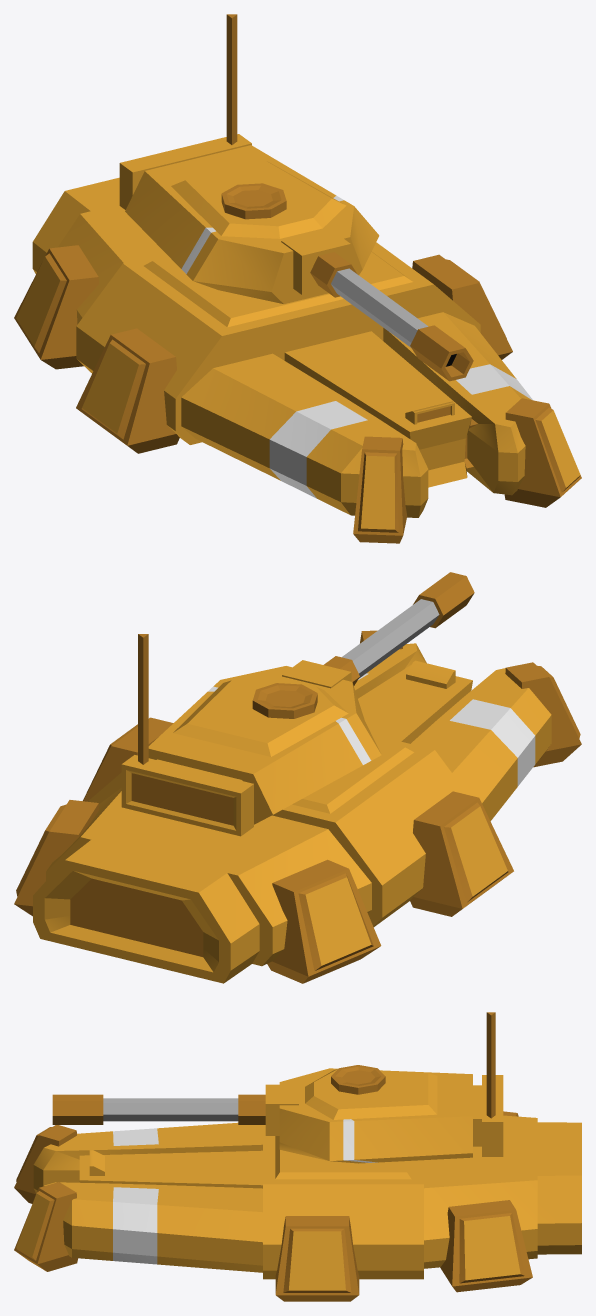
The model's file is desert_tankEnemy_01.fbx.
3 renders of one model, top to bottom at view 1: azimuth 30°, elevation 25°; view 2: azimuth 150°, elevation 25°; view 3: azimuth 270°, elevation 25°, orthographic. The views are drawn at different scales.
Parts seen in each view (by area): view 1: body, turret, jet04, jet06, jet01, barrel01, jet02, jet03, barrel02, greeble01, antenna; view 2: body, turret, jet06, jet04, barrel01, jet05, jet02, greeble01, jet03, barrel02, antenna, greeble03; view 3: body, turret, jet05, jet03, barrel01, jet01, barrel02, jet02, greeble01, antenna, greeble03.
Boxes of the visible parts, bbox=[...] form: body: bbox=[32, 177, 532, 517]; turret: bbox=[119, 134, 379, 303]; jet04: bbox=[76, 328, 179, 453]; jet06: bbox=[14, 245, 98, 369]; jet01: bbox=[504, 398, 581, 507]; barrel01: bbox=[331, 268, 473, 381]; jet02: bbox=[353, 436, 407, 543]; jet03: bbox=[412, 254, 512, 359]; barrel02: bbox=[281, 229, 357, 297]; greeble01: bbox=[221, 183, 286, 219]; antenna: bbox=[226, 14, 237, 144]; body: bbox=[33, 643, 551, 983]; turret: bbox=[121, 666, 381, 836]; jet06: bbox=[267, 859, 381, 983]; jet04: bbox=[410, 791, 513, 916]; barrel01: bbox=[342, 572, 474, 678]; jet05: bbox=[14, 800, 99, 916]; jet02: bbox=[505, 662, 581, 767]; greeble01: bbox=[252, 683, 317, 718]; jet03: bbox=[83, 717, 173, 801]; barrel02: bbox=[282, 656, 359, 688]; antenna: bbox=[138, 634, 148, 764]; greeble03: bbox=[406, 660, 455, 688]; body: bbox=[33, 1115, 581, 1279]; turret: bbox=[279, 1068, 503, 1163]; jet05: bbox=[440, 1200, 532, 1292]; jet03: bbox=[275, 1216, 359, 1301]; barrel01: bbox=[52, 1094, 238, 1124]; jet01: bbox=[14, 1182, 77, 1271]; barrel02: bbox=[238, 1084, 298, 1135]; jet02: bbox=[14, 1125, 76, 1203]; greeble01: bbox=[331, 1065, 385, 1094]; antenna: bbox=[486, 1012, 495, 1118]; greeble03: bbox=[89, 1150, 104, 1175].
Bounding box in the file's own units: 3.6 × 2.57 × 5.6.
